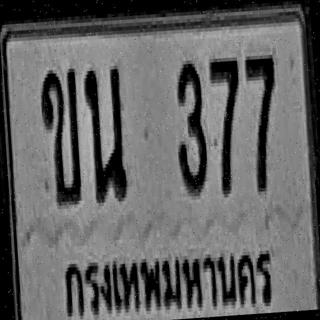A02: (38, 63, 84, 204)
A25: (82, 62, 128, 200)
N03: (172, 60, 209, 194)
N07: (244, 49, 282, 190), (208, 54, 246, 194)
P04: (56, 235, 280, 320)
